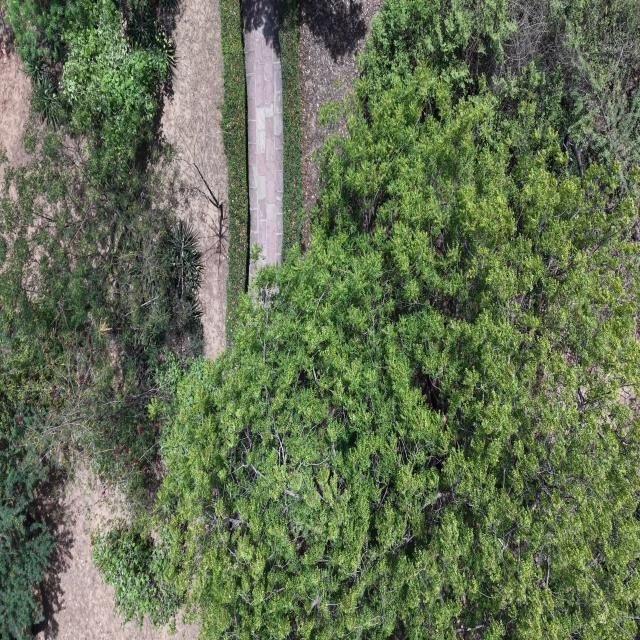DRY_AREA: (35, 464, 198, 639), (162, 0, 228, 357), (163, 0, 227, 357), (163, 0, 227, 356), (163, 0, 227, 355), (163, 0, 226, 356), (299, 0, 381, 223), (243, 0, 283, 283), (0, 10, 31, 165)
VEGETATION_TREE: (0, 0, 639, 639), (146, 0, 639, 639), (156, 68, 639, 639), (0, 0, 201, 639), (0, 129, 200, 487), (360, 0, 639, 187), (6, 0, 175, 185), (501, 0, 639, 188), (61, 0, 173, 172), (0, 350, 54, 639), (360, 0, 515, 94), (92, 509, 185, 630), (220, 0, 249, 343), (219, 0, 248, 342), (93, 524, 183, 632), (278, 0, 303, 258)
